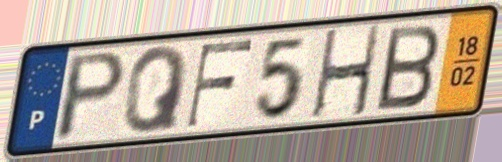5: (252, 33, 313, 123)
B: (374, 21, 443, 114)
F: (182, 36, 257, 131)
H: (309, 22, 383, 122)
P: (50, 48, 131, 145)
Q: (120, 43, 192, 137)
